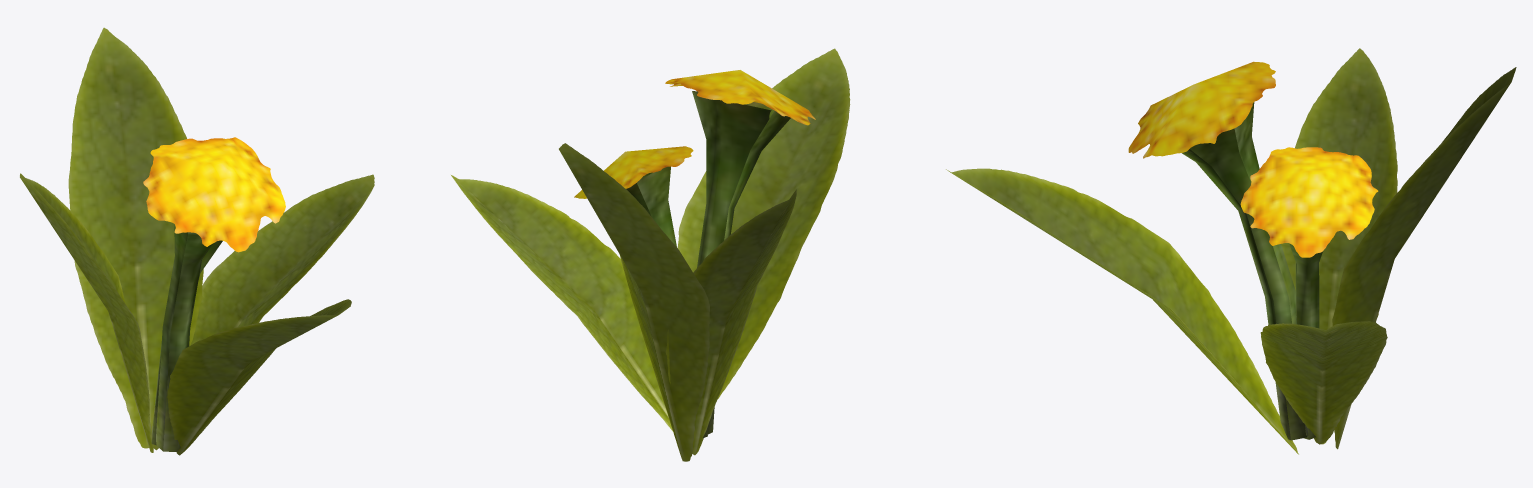
File: yellowf3.fbx
3 views of the same model, side by side, from view 1: azimuth 30°, elevation 25°; view 2: azimuth 150°, elevation 25°; view 3: azimuth 270°, elevation 25° (orthographic). The views are drawn at different scales.
Visible parts, largest first — view 1: yellowflower03; view 2: yellowflower03; view 3: yellowflower03.
Part boxes in pixels (left/top/right/bottom): yellowflower03: left=20, top=27, right=374, bottom=455; yellowflower03: left=451, top=48, right=850, bottom=461; yellowflower03: left=946, top=48, right=1516, bottom=454.
Bounding box in the file's own units: 19.28 × 20.08 × 24.62.
